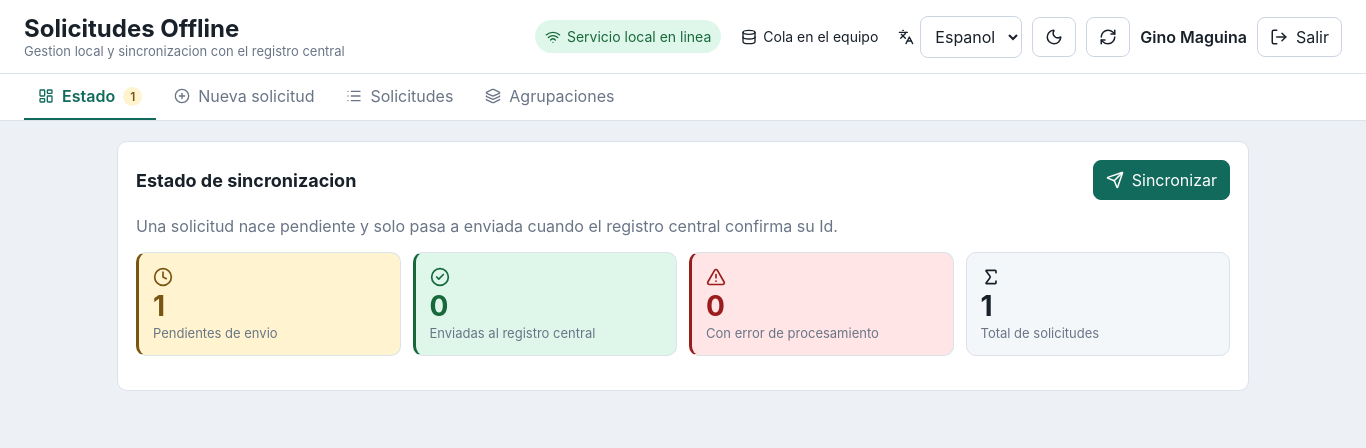
Test: local request workflow › refreshes local states after a partial synchronization failure
The image size is (1366, 448).
Expected: the text "Pendientes de envio" is shown, [153, 325, 278, 341]
Click the button "Sincronizar" at [1161, 180], box [1093, 160, 1230, 200]
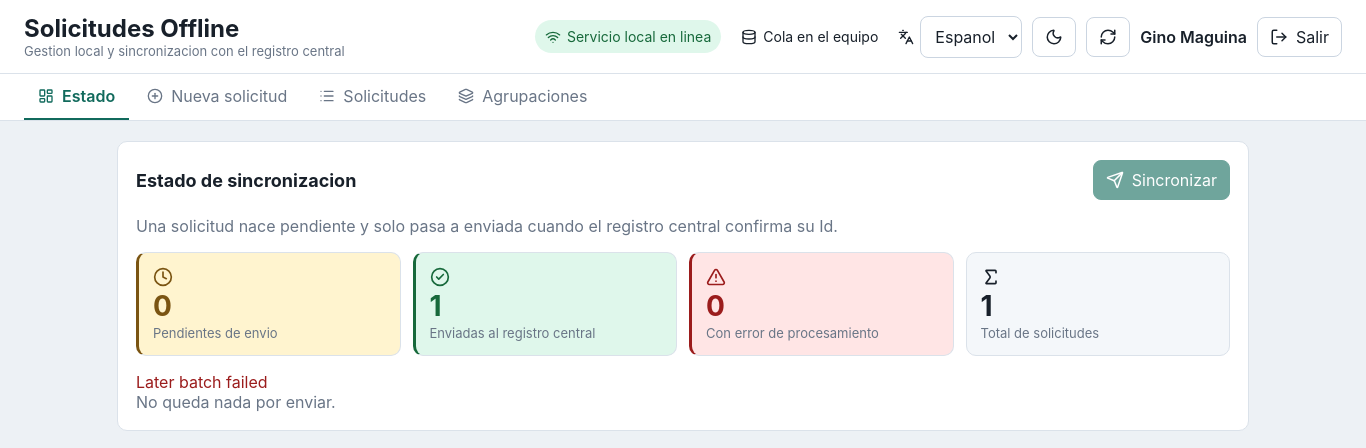
Expected: the text "Later batch failed" is shown, [136, 372, 268, 392]
Expected: the text "No queda nada por enviar." is shown, [136, 392, 336, 412]
